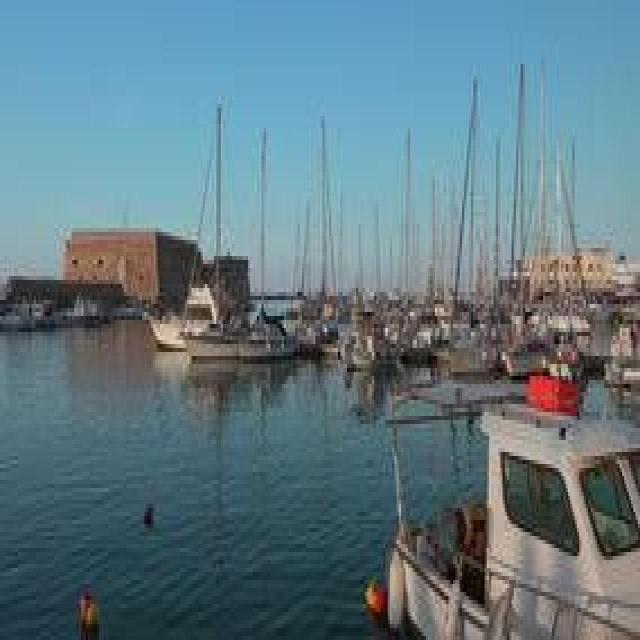Kules: (66, 222, 252, 318)
